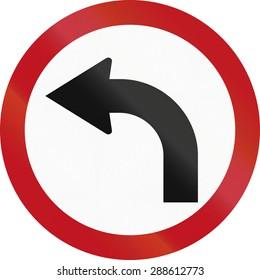Left hand curve: (18, 18, 244, 240)
